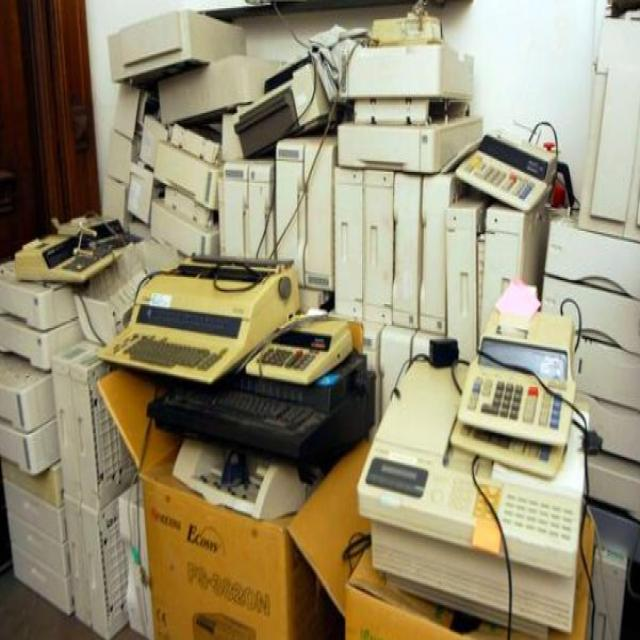electronic: (117, 215, 307, 439)
